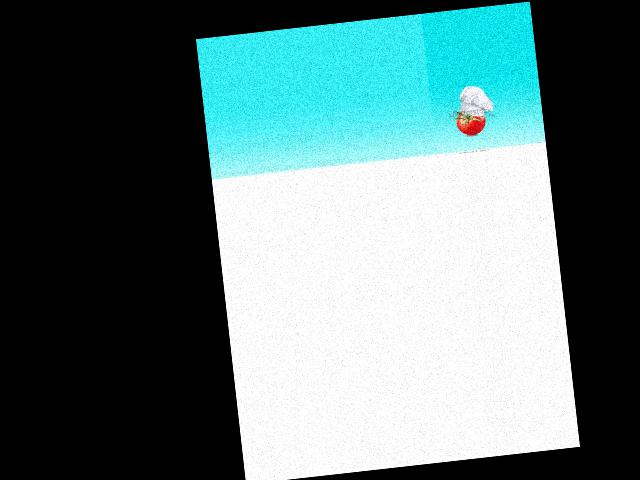tomato: (456, 109, 487, 135)
